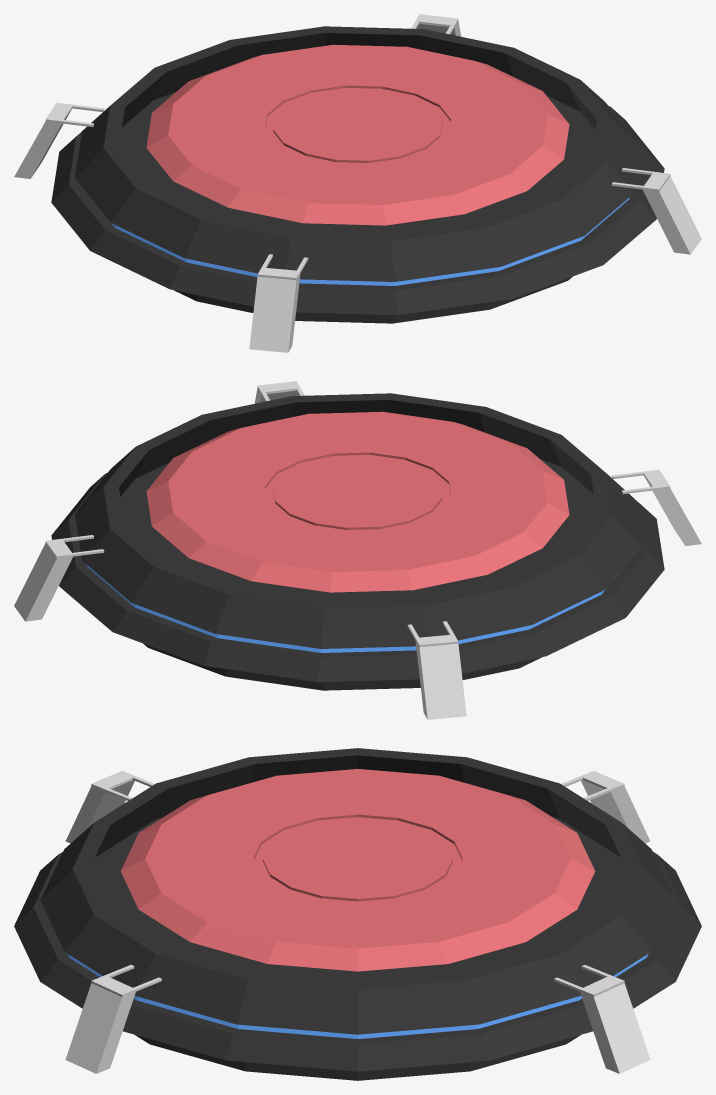
The model's file is standbutton_empty.fbx.
3 renders of one model, top to bottom at view 1: azimuth 30°, elevation 25°; view 2: azimuth 150°, elevation 25°; view 3: azimuth 270°, elevation 25°, orthographic. The views are drawn at different scales.
Parts seen in each view (by area): view 1: stand_chassi.001, Stand_Button.001; view 2: stand_chassi.001, Stand_Button.001; view 3: stand_chassi.001, Stand_Button.001.
Boxes of the visible parts, x1,y1,x2,y2 form: stand_chassi.001: [14, 14, 701, 352]; Stand_Button.001: [146, 44, 569, 225]; stand_chassi.001: [14, 381, 701, 719]; Stand_Button.001: [146, 411, 569, 592]; stand_chassi.001: [14, 748, 701, 1080]; Stand_Button.001: [120, 769, 595, 971].
Size of the model in its own units: 5.03 by 0.7877 by 5.03.
